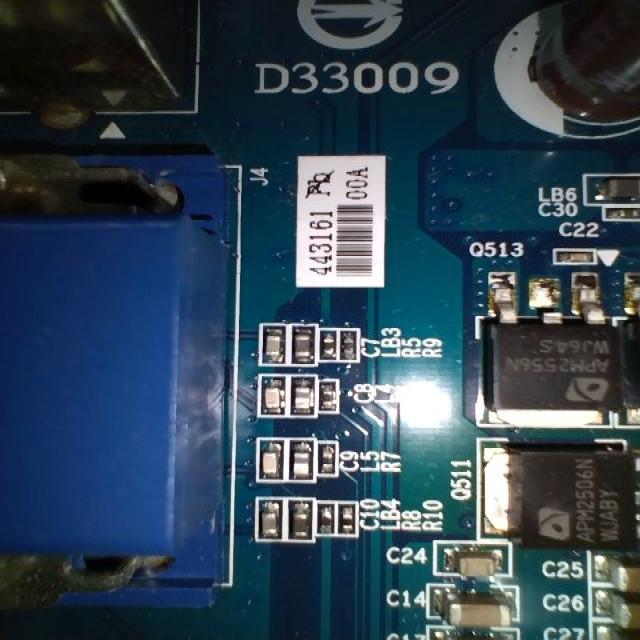capacitor: (430, 581, 523, 633), (433, 538, 510, 584), (256, 495, 284, 544), (259, 437, 287, 483), (261, 319, 287, 368), (554, 245, 600, 270), (260, 377, 287, 418)
resistor: (316, 440, 342, 479), (338, 327, 365, 363), (316, 500, 336, 538), (340, 499, 358, 538), (321, 325, 338, 366)
